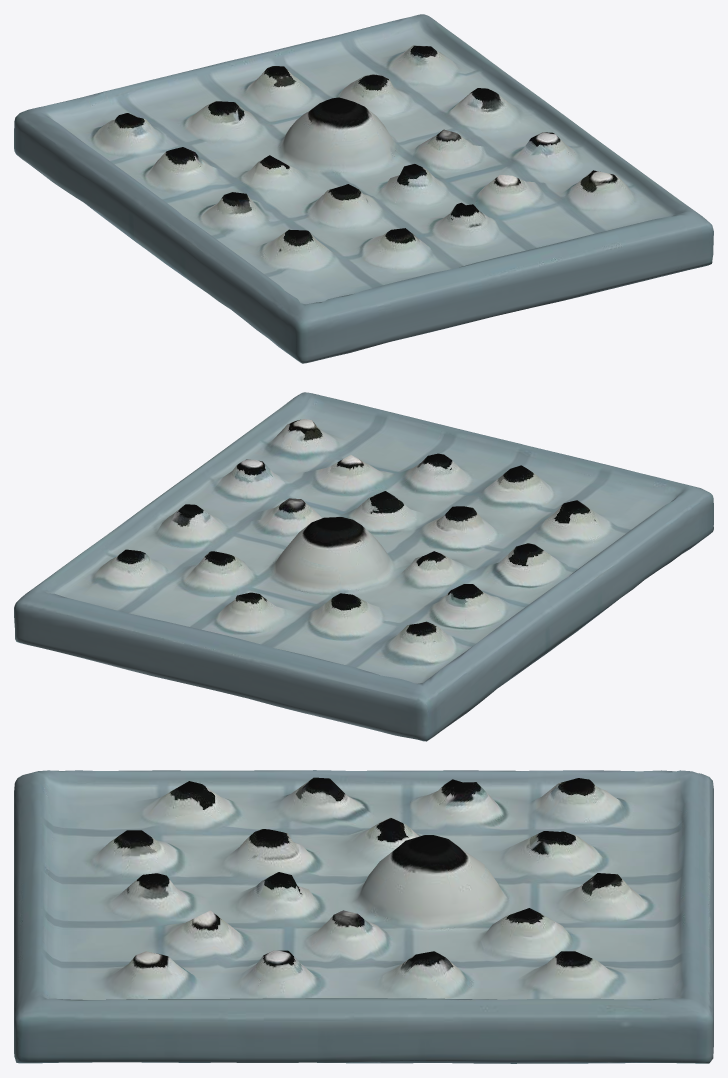
The model's file is Tsukumogami.glb.
3 views of the same model, one above another, from view 1: azimuth 30°, elevation 25°; view 2: azimuth 150°, elevation 25°; view 3: azimuth 270°, elevation 25° (orthographic). The views are drawn at different scales.
Parts seen in each view (by area): view 1: Retopo_tsukumogami; view 2: Retopo_tsukumogami; view 3: Retopo_tsukumogami.
Boxes of the visible parts, x1,y1,x2,y2 form: Retopo_tsukumogami: (14, 14, 713, 363); Retopo_tsukumogami: (14, 392, 713, 741); Retopo_tsukumogami: (14, 770, 713, 1063).
Bounding box in the file's own units: 1.62 × 0.3172 × 1.96.
Materials: 1 (1 with a texture image).
